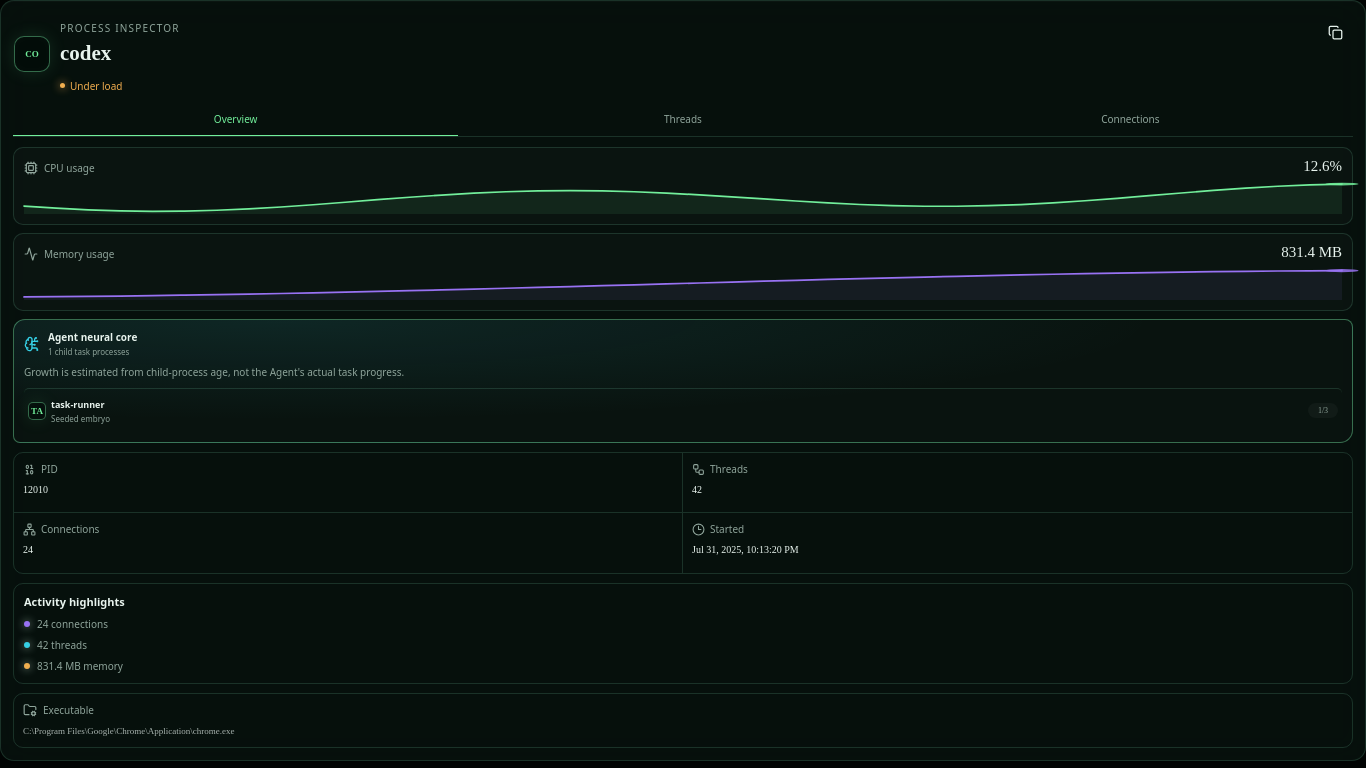
Scenario: monitoring motion and feedback › keeps embryo stage tied to the accepted snapshot and exposes child inspection
This screenshot has width=1366, height=768.
Expected: the text "Seeded embryo" is shown, top-left (51, 412), bottom-right (110, 424)
Expected: the text "not the Agent's actual task progress" is shown, top-left (24, 365), bottom-right (404, 379)
Click the tab "Threads": click(683, 120) top-left (460, 103), bottom-right (906, 136)
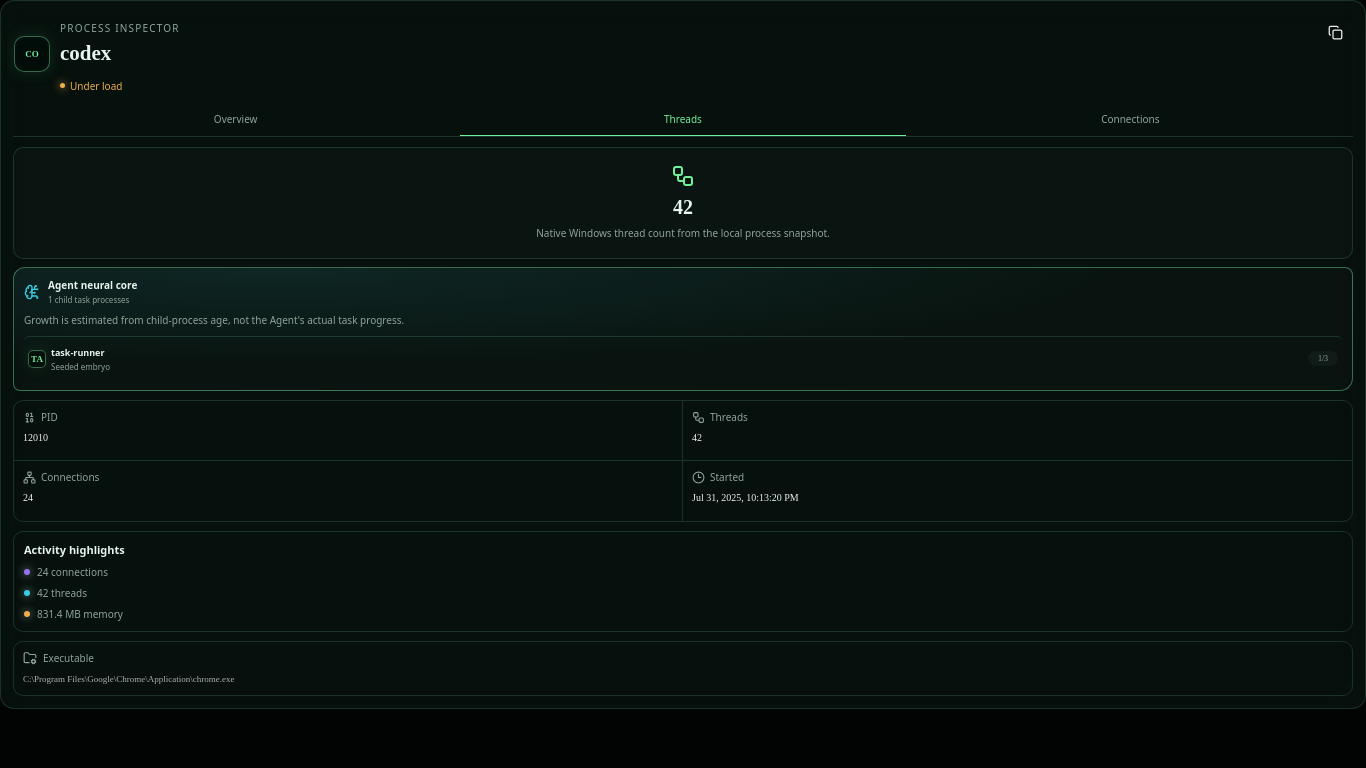
Expected: the text "Seeded embryo" is shown, top-left (51, 360), bottom-right (110, 372)
Click the button with aria-label "Select task-runner process": click(78, 352) top-left (24, 336), bottom-right (1342, 380)
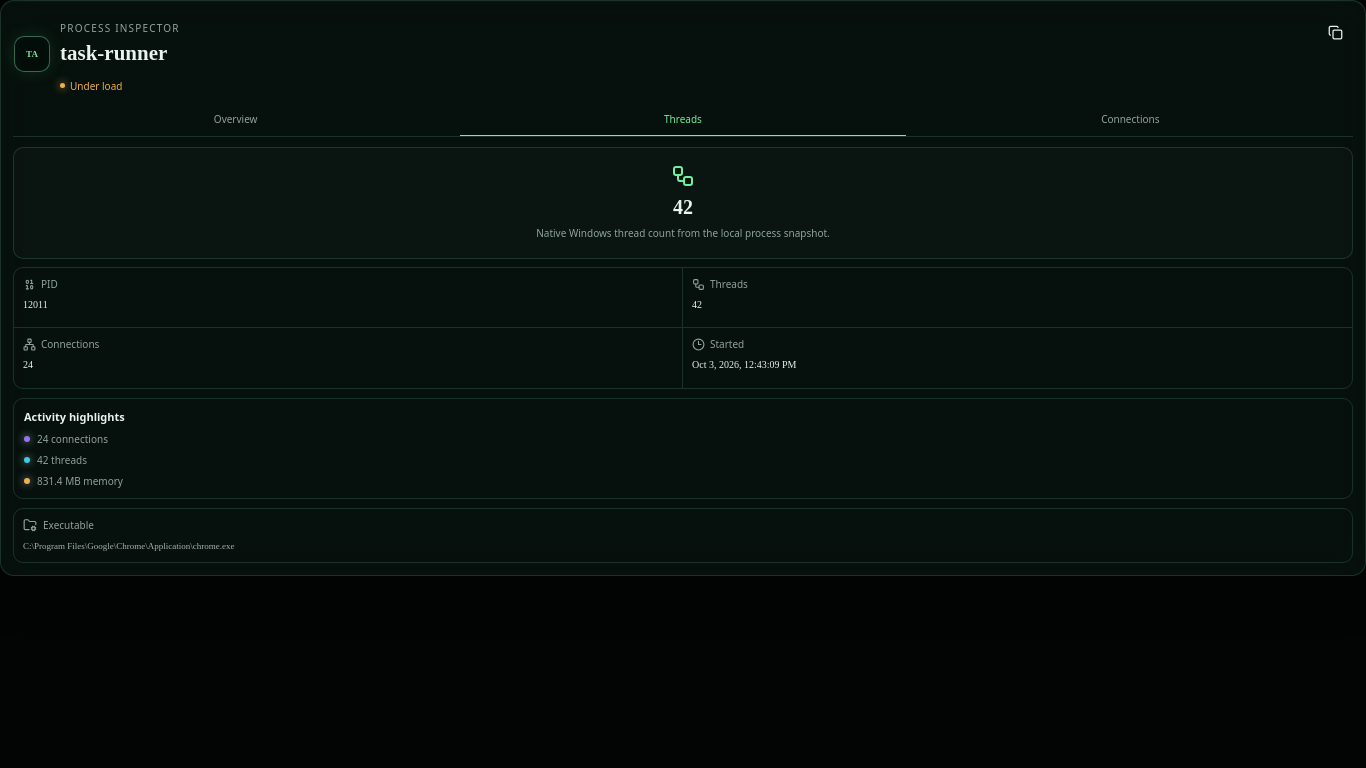
Expected: the heading "task-runner" is shown, top-left (60, 41), bottom-right (180, 66)
